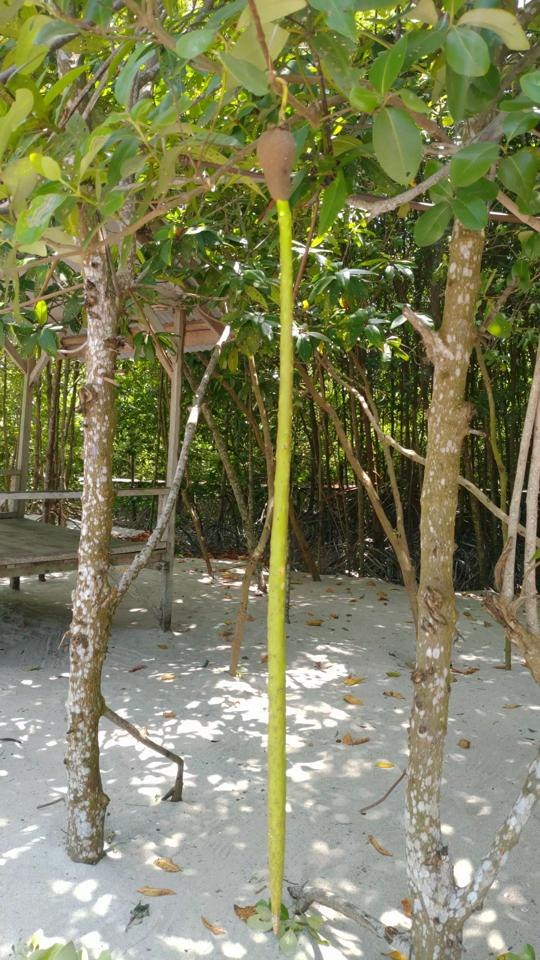mentah: (241, 112, 309, 943)
